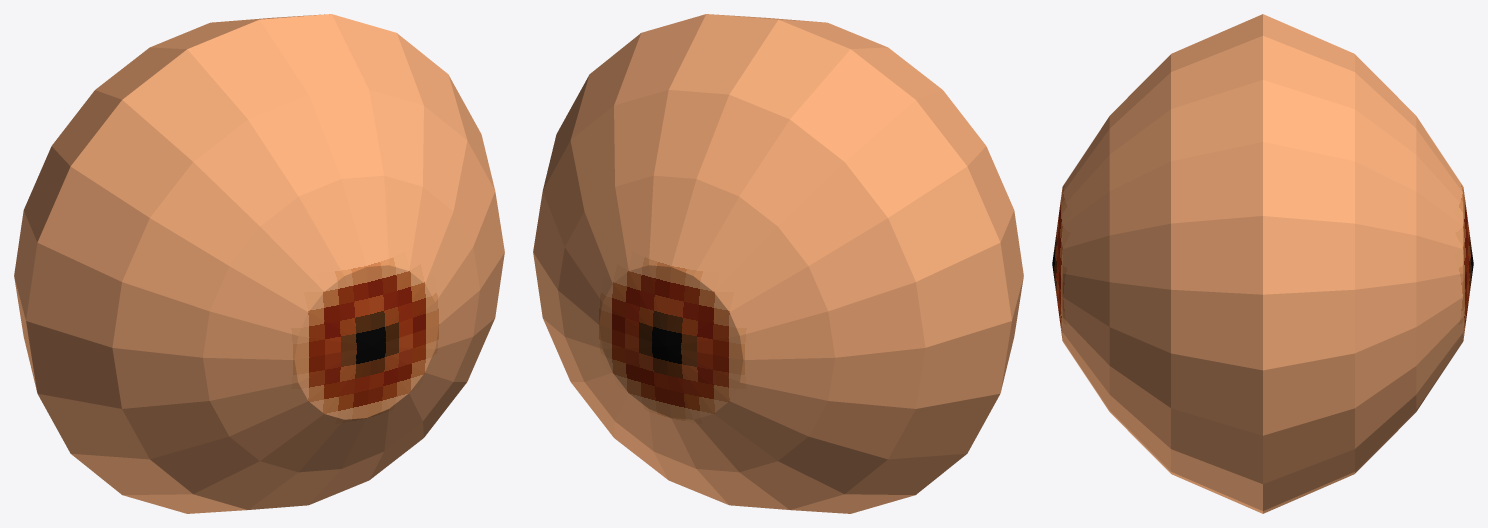
File: DemonEye.glb
3 views of the same model, side by side, from view 1: azimuth 30°, elevation 25°; view 2: azimuth 150°, elevation 25°; view 3: azimuth 270°, elevation 25° (orthographic). The views are drawn at different scales.
Visible parts, largest first — view 1: DemonEye; view 2: DemonEye; view 3: DemonEye.
Part boxes in pixels (x1,y1,x2,y2): DemonEye: [14, 14, 504, 513]; DemonEye: [533, 14, 1023, 513]; DemonEye: [1052, 14, 1473, 513].
Size of the model in its own units: 2 by 2 by 1.67.
Materials: 1 (1 with a texture image).
